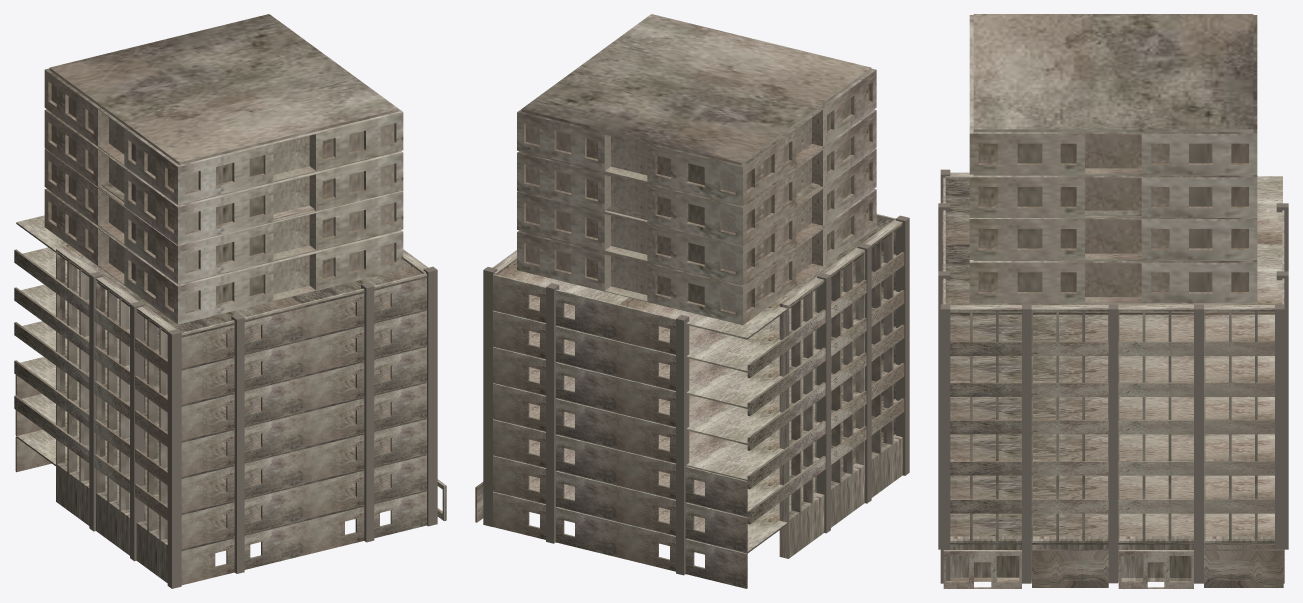
File: SM_T_Skyscraper.fbx
3 renders of one model, left to right at view 1: azimuth 30°, elevation 25°; view 2: azimuth 150°, elevation 25°; view 3: azimuth 270°, elevation 25°, orthographic. The views are drawn at different scales.
Parts seen in each view (by area): view 1: polySurface19, polySurface39; view 2: polySurface19, polySurface39; view 3: polySurface19, polySurface39.
Part boxes in pixels (x1,y1,x2,y2): polySurface19: [14, 14, 446, 585]; polySurface39: [89, 266, 437, 588]; polySurface19: [475, 14, 904, 588]; polySurface39: [483, 215, 909, 575]; polySurface19: [942, 14, 1284, 588]; polySurface39: [938, 169, 1288, 583].
Size of the model in its own units: 246 by 350 by 251.
2 materials, 1 textured.
